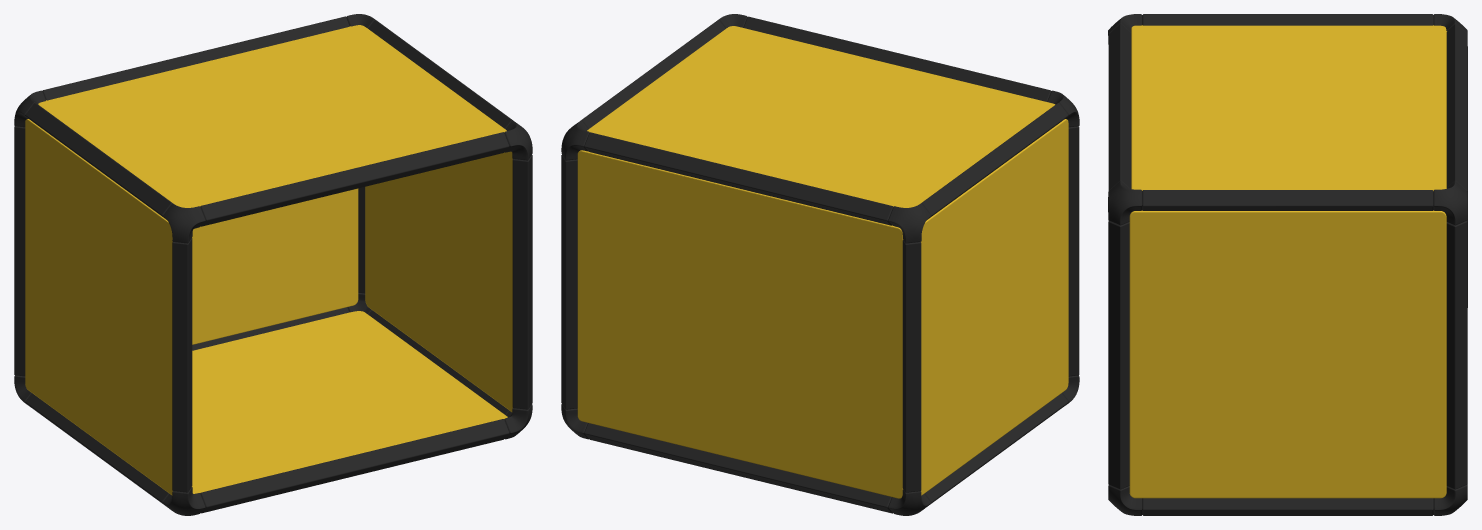
The picture shows the model from 3 angles, left to right: view 1: azimuth 30°, elevation 25°; view 2: azimuth 150°, elevation 25°; view 3: azimuth 270°, elevation 25°; orthographic projection. The views are drawn at different scales.
Parts seen in each view (by area): view 1: 420x329x330; view 2: 420x329x330; view 3: 420x329x330.
Part boxes in pixels (box(x1,y1,x2,y2)): 420x329x330: box(14, 14, 532, 515); 420x329x330: box(561, 14, 1079, 515); 420x329x330: box(1108, 14, 1467, 515).
Bounding box in the file's own units: 0.4977 × 0.4066 × 0.4063.
